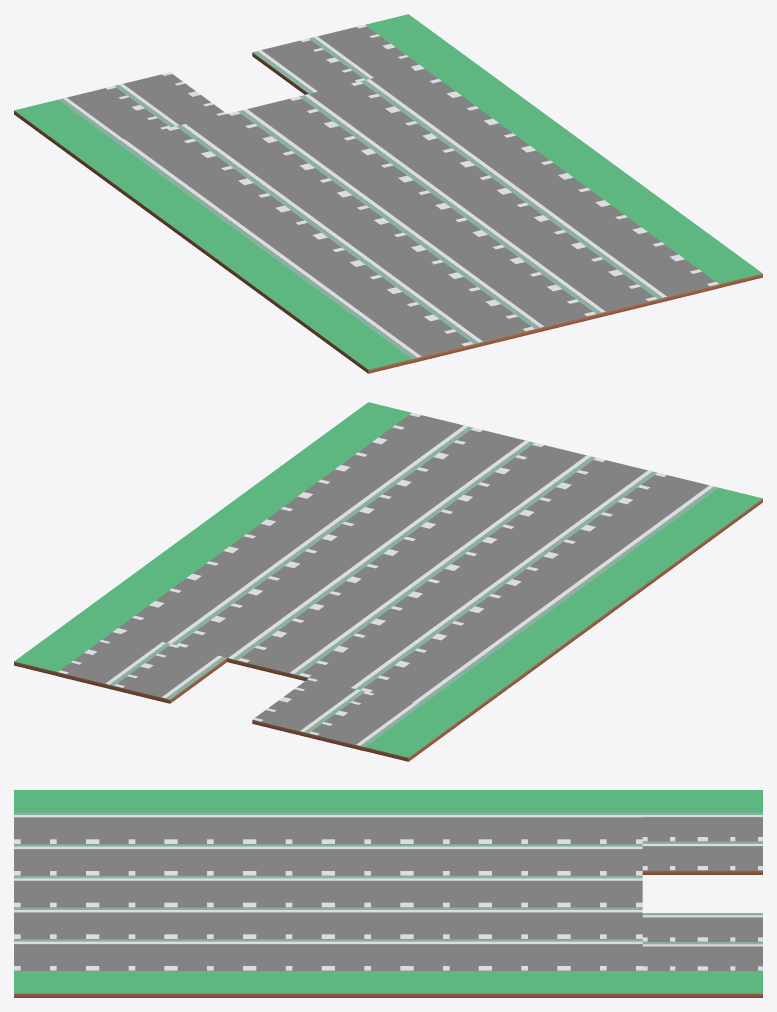
The model's file is finish-platform.glb.
The picture shows the model from 3 angles, top to bottom: view 1: azimuth 30°, elevation 25°; view 2: azimuth 150°, elevation 25°; view 3: azimuth 270°, elevation 25°; orthographic projection. The views are drawn at different scales.
Visible parts, largest first — view 1: finish original Racing pit-floor modules, finish original Golf open green border, finish original Golf solid base below pit floor; view 2: finish original Racing pit-floor modules, finish original Golf open green border, finish original Golf solid base below pit floor; view 3: finish original Racing pit-floor modules, finish original Golf open green border, finish original Golf solid base below pit floor.
Part boxes in pixels (<box>): finish original Racing pit-floor modules: <box>58,24,718,358</box>; finish original Golf open green border: <box>14,14,762,373</box>; finish original Golf solid base below pit floor: <box>163,52,718,362</box>; finish original Racing pit-floor modules: <box>58,412,718,746</box>; finish original Golf open green border: <box>14,402,762,761</box>; finish original Golf solid base below pit floor: <box>58,643,412,750</box>; finish original Racing pit-floor modules: <box>14,812,762,970</box>; finish original Golf open green border: <box>14,790,762,997</box>; finish original Golf solid base below pit floor: <box>642,870,762,874</box>.
Size of the model in its own units: 36 by 0.382 by 56.
Materials: 4 (1 with a texture image).
